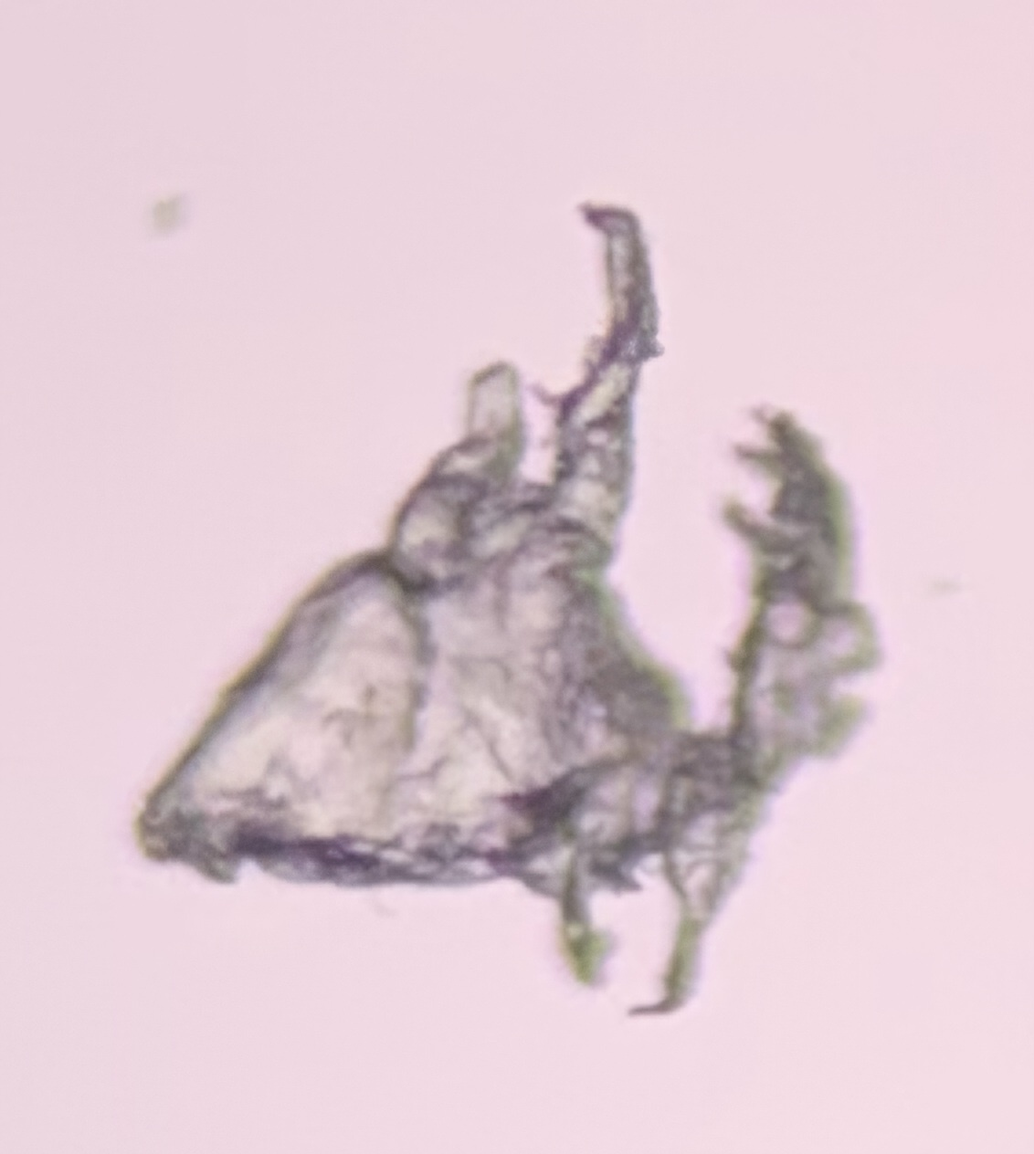microplastic: (135, 200, 883, 1015)
